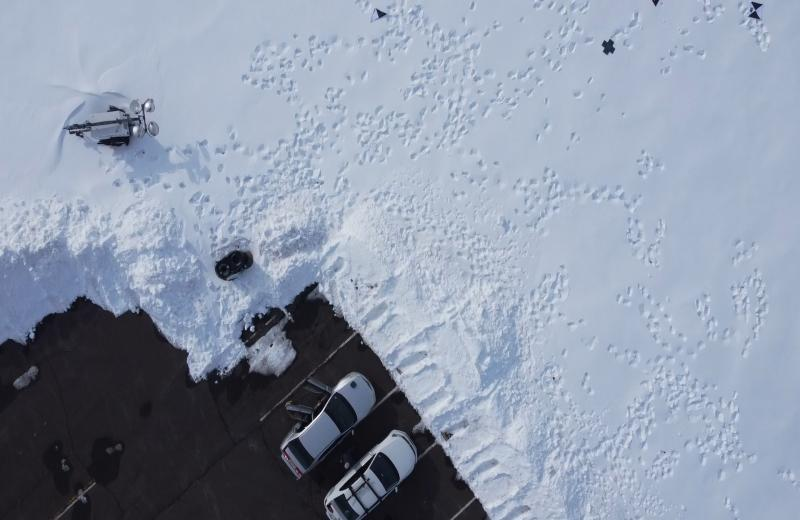Cross: (600, 36, 619, 56)
